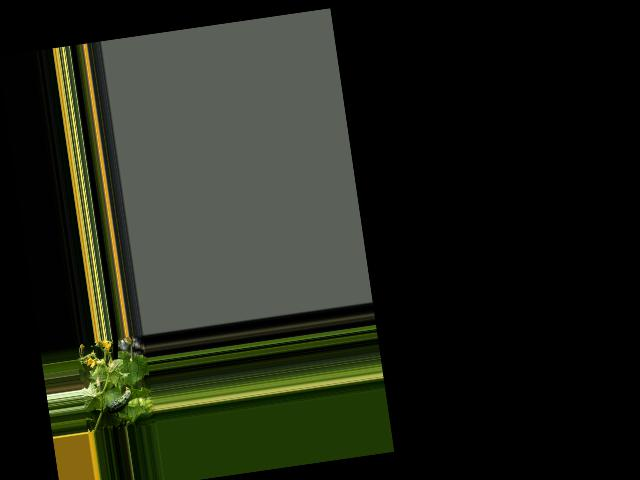cucumber: (102, 386, 134, 414)
